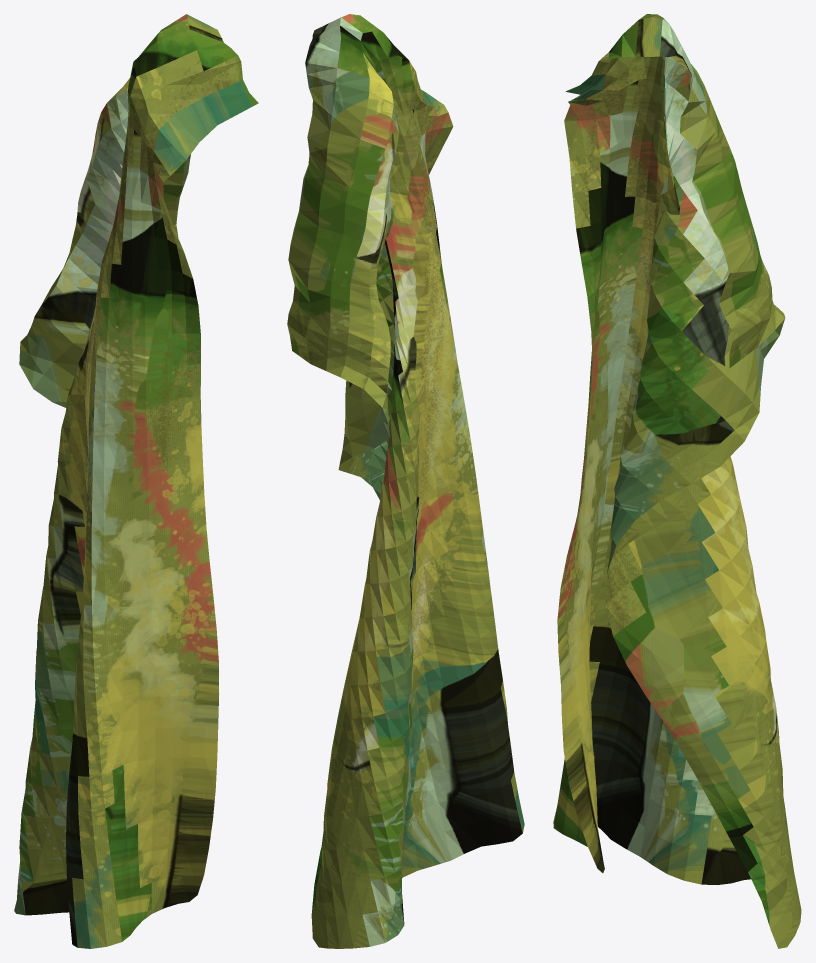
The model's file is recznik.obj.
The picture shows the model from 3 angles, left to right: view 1: azimuth 30°, elevation 25°; view 2: azimuth 150°, elevation 25°; view 3: azimuth 270°, elevation 25°; orthographic projection. The views are drawn at different scales.
Visible parts, largest first — view 1: Plane_Plane.001; view 2: Plane_Plane.001; view 3: Plane_Plane.001.
Part boxes in pixels (x1,y1,x2,y2): Plane_Plane.001: [14, 14, 258, 948]; Plane_Plane.001: [287, 14, 524, 948]; Plane_Plane.001: [553, 14, 801, 948].
Size of the model in its own units: 0.2469 by 1.22 by 0.2901.
1 material, 1 textured.
